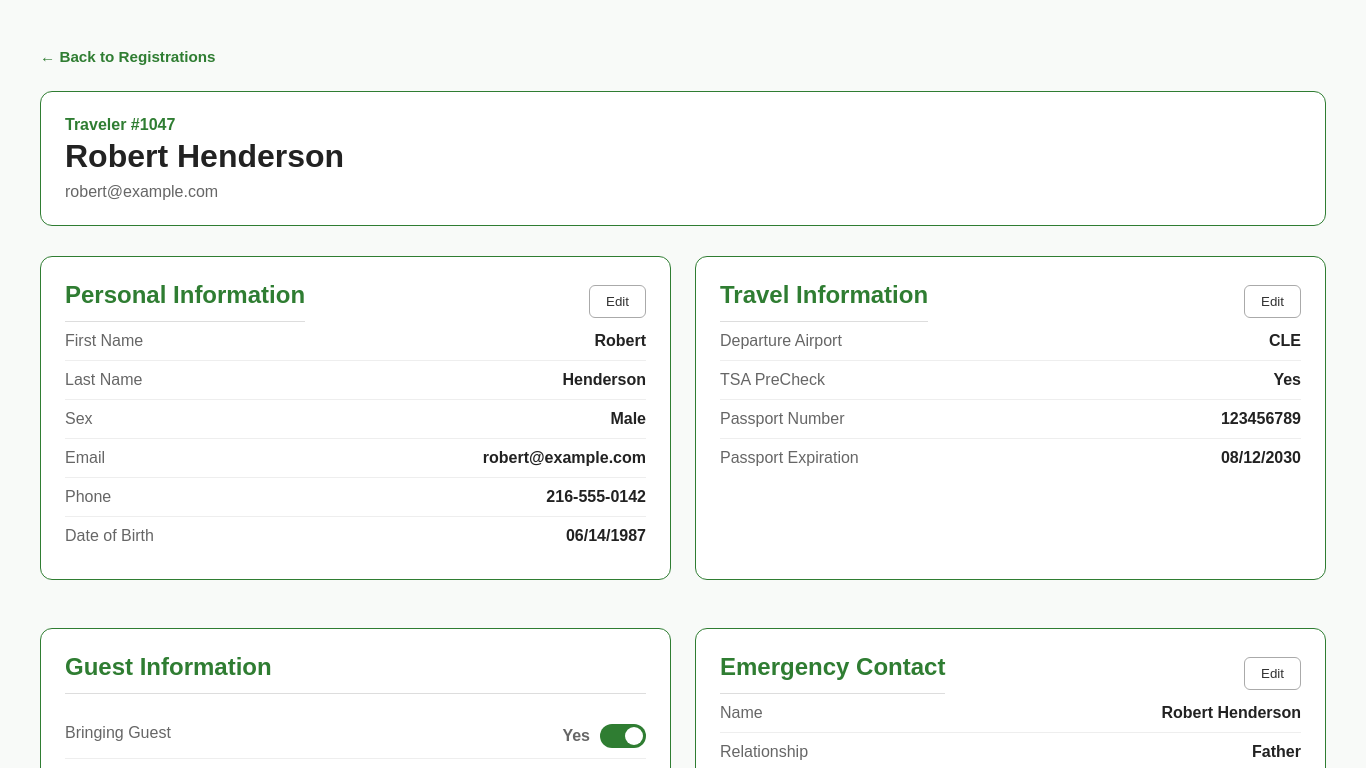
Test: RegistrationDetails › provides a passport expiration date input and saves an ISO date
The width and height of the screenshot is (1366, 768).
Click the button "Edit" in the row of "Travel Information". click: (1272, 302)
box: x1=1244 y1=285 x2=1301 y2=318
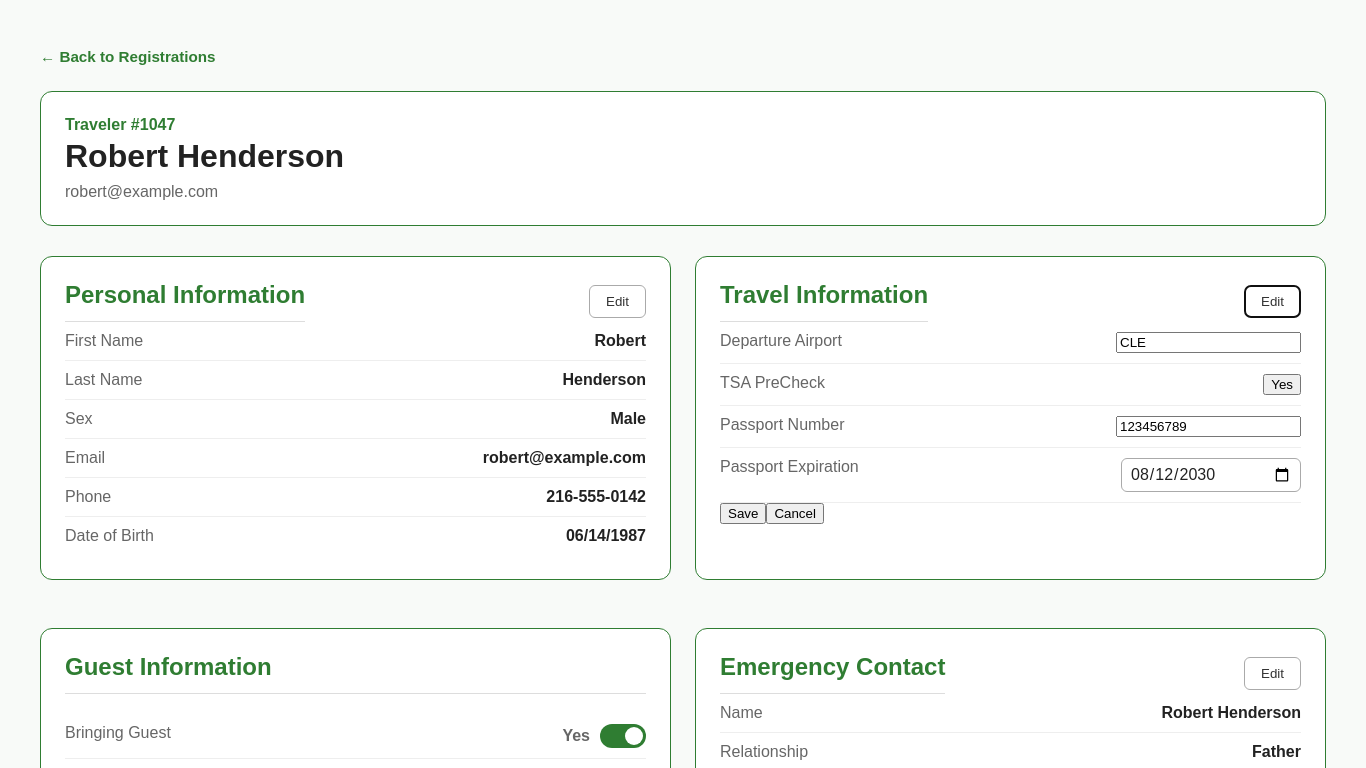
Expected: the date field named "Passport Expiration" holds "2030-08-12"
Type "2035-10-21" into the date field named "Passport Expiration". click: (1211, 475)
box: x1=1121 y1=458 x2=1301 y2=492
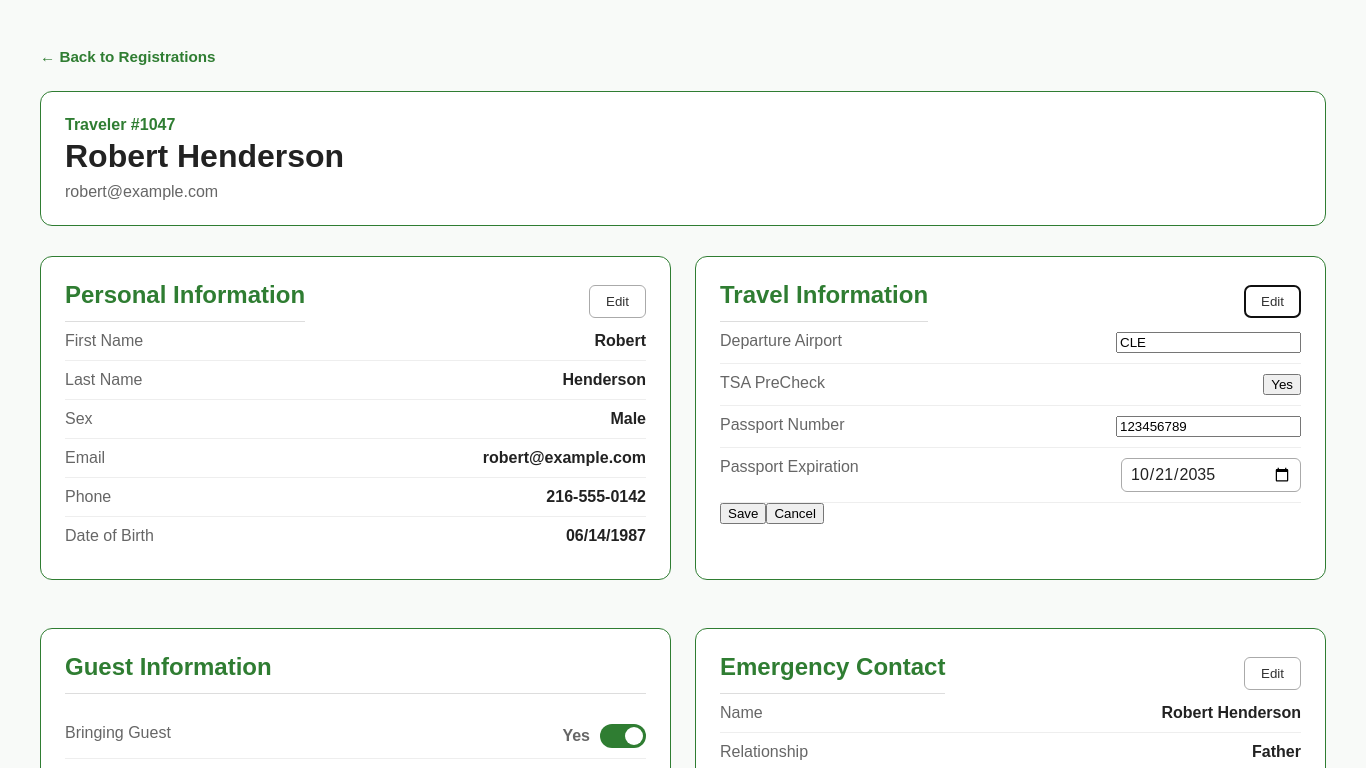
Click the button "Save". click: (743, 514)
box: x1=720 y1=503 x2=766 y2=524
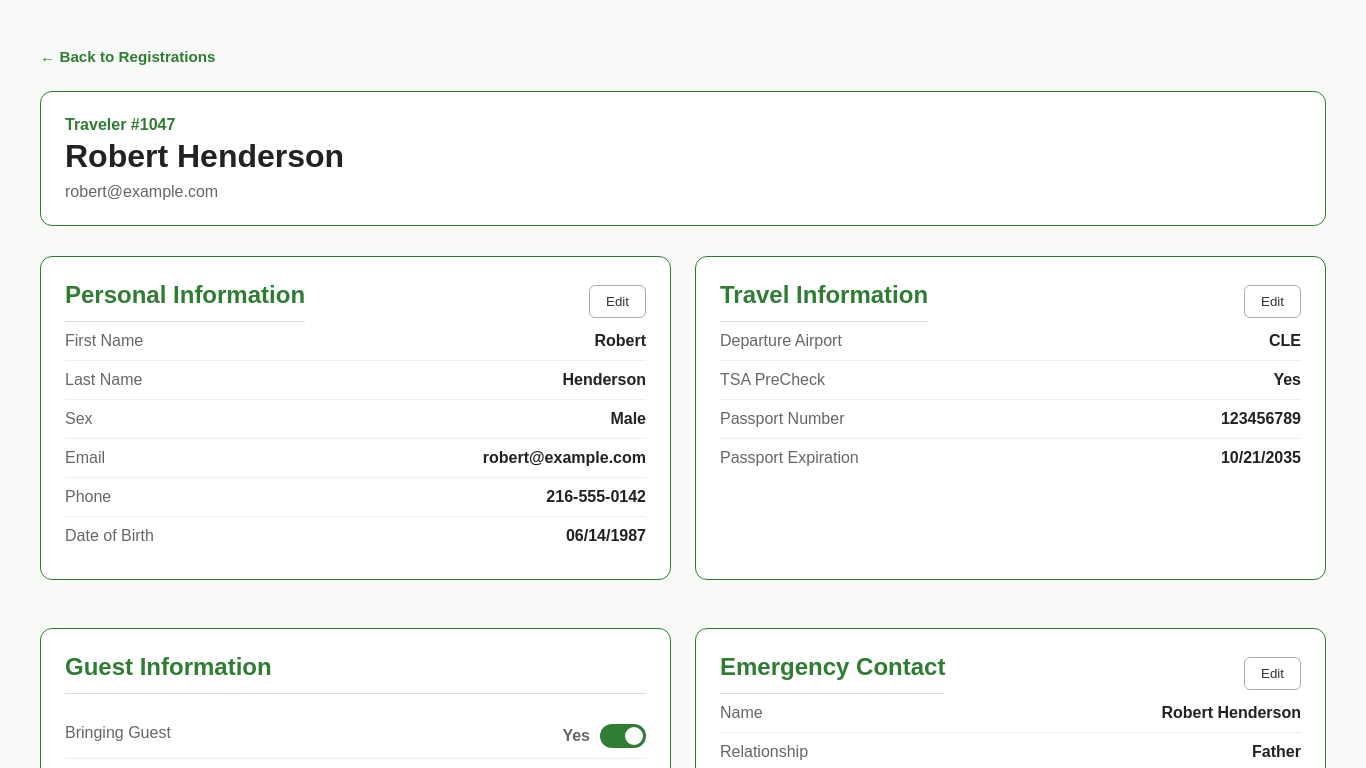
Expected: the text "10/21/2035" is shown, x1=1221 y1=449 x2=1301 y2=467
